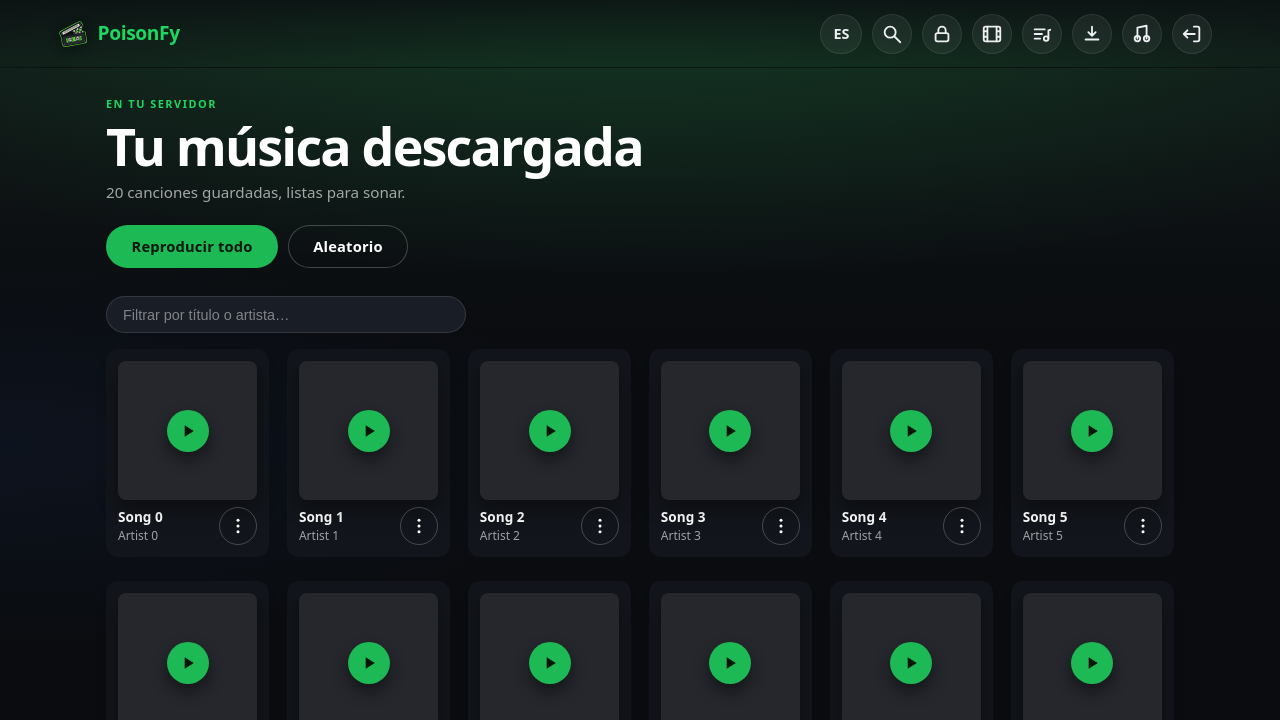
Test: DownloadedScreen — tu música descargada › filters in place once the library is big enough to need it
Type "Artist 7" into the search field named "Filtrar tu música descargada" at (286, 315), box [106,296,466,333]
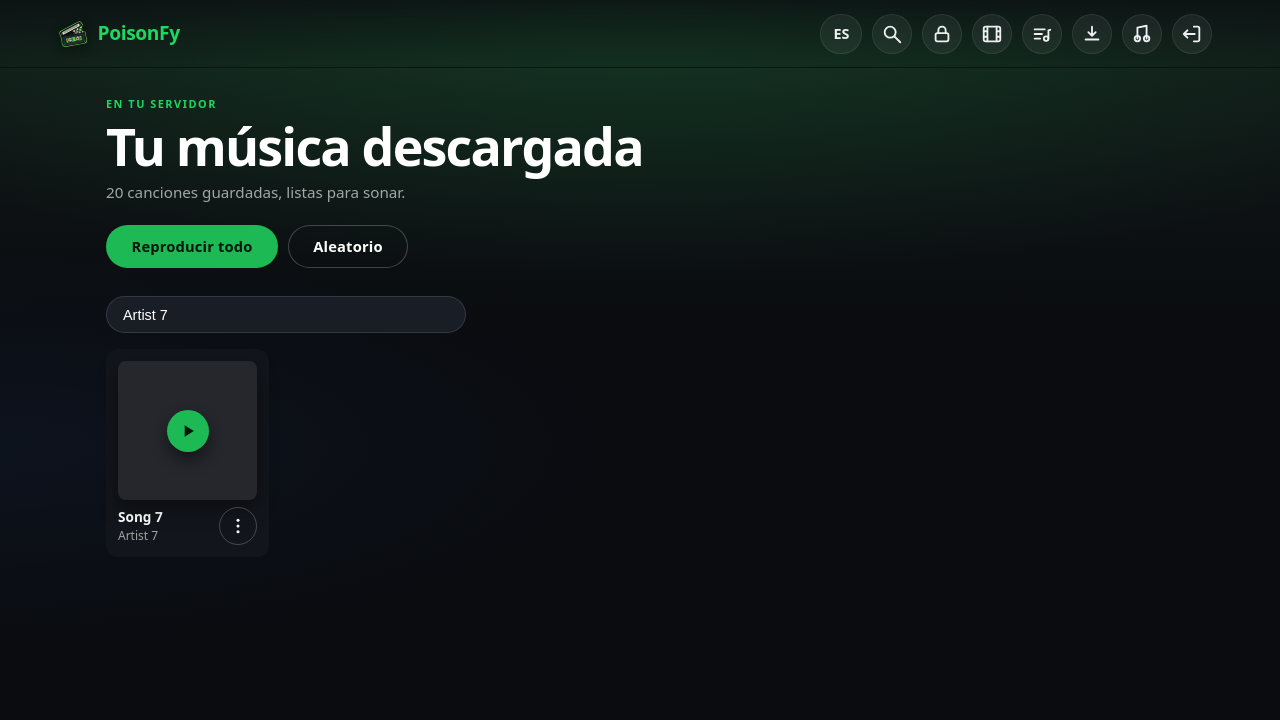
Expected: the link with aria-label "Ver Song 7" is shown, [118,507,163,526]
Replace the text in the search field named "Filtrar tu música descargada" with "zzz" at (286, 315), box [106,296,466,333]
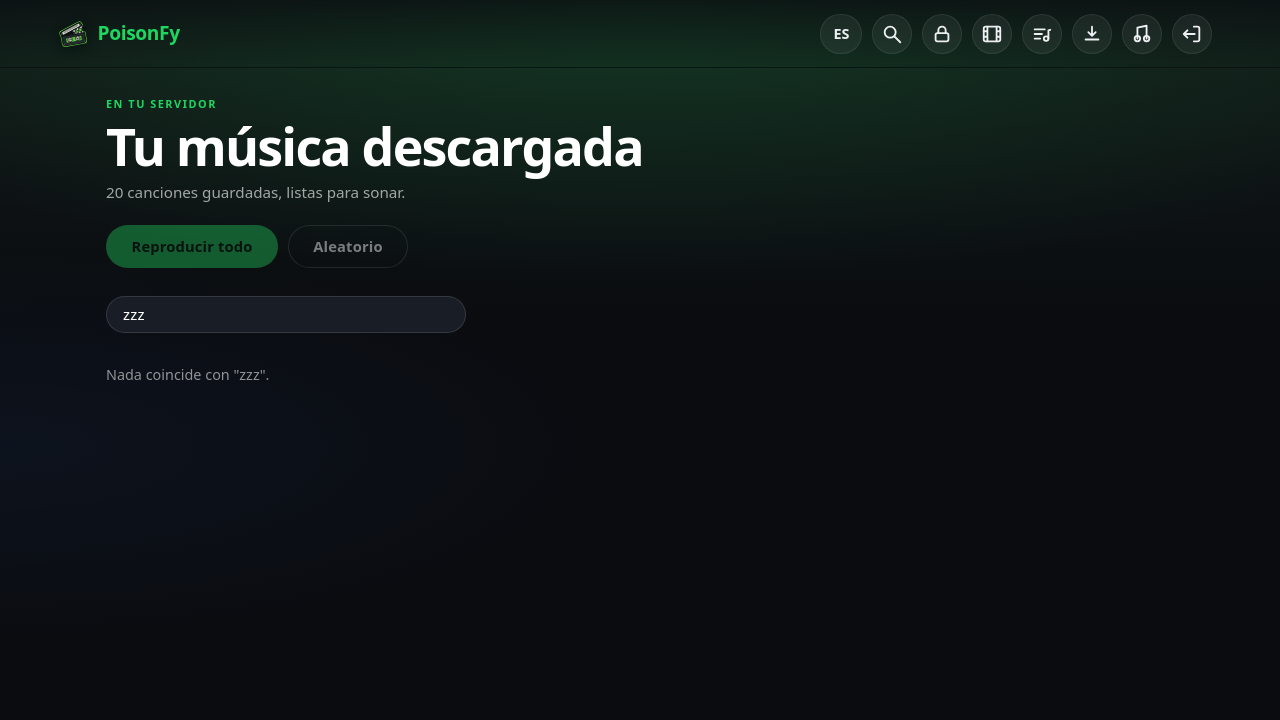
Now the text "Nada coincide con \"zzz\"." is shown, box [106,364,269,384]
